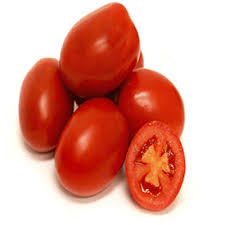tomato: (56, 1, 153, 96), (50, 97, 129, 196), (10, 50, 68, 144)
